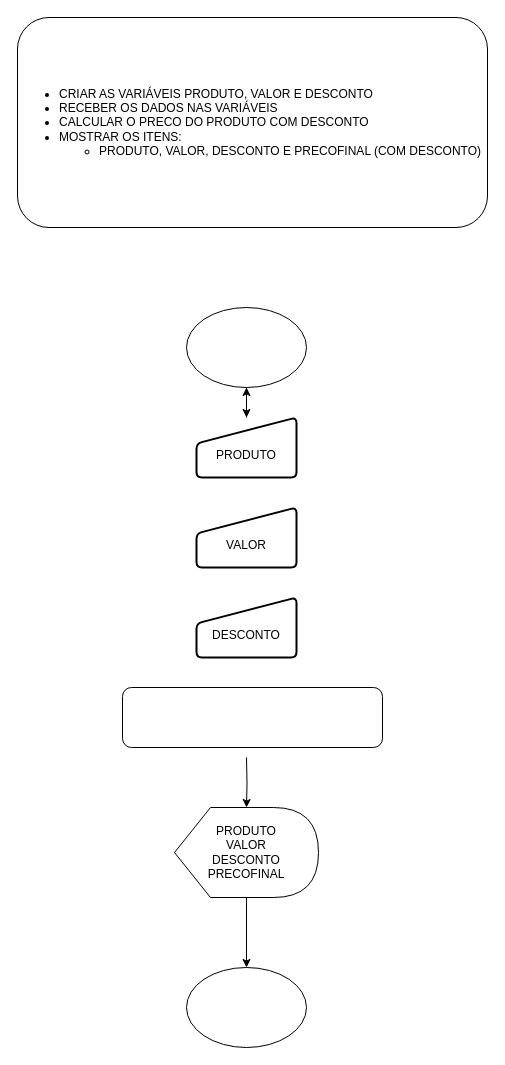
Image size: 505x1065. Some labels were removed from this diagram. The shapes that lost their labels are listed below. From the top down, each one's centre as x and y in pixels, then its label:
At (246,347): "INÍCIO".
At (252,717): "PRECOFINAL = VALOR - DESCONTO".
At (246,1007): "FIM".
